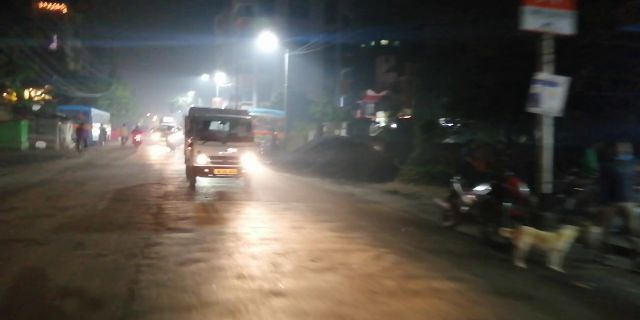Minitruck: (185, 101, 261, 184)
